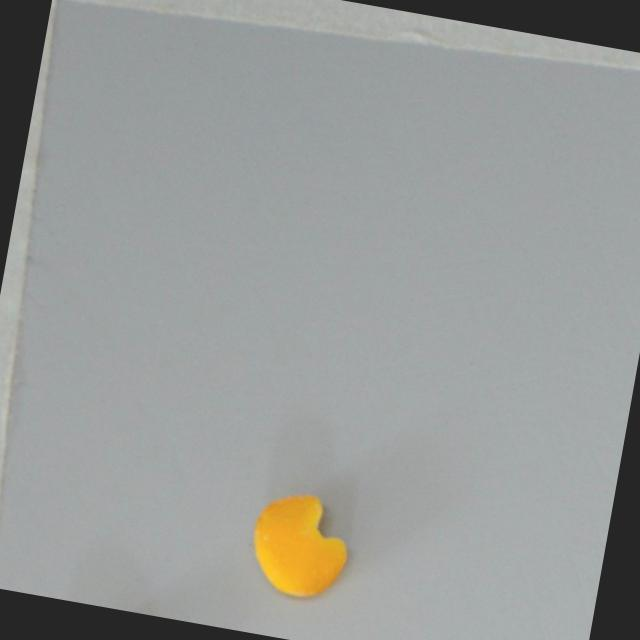no_canjicado: (244, 483, 357, 603)
